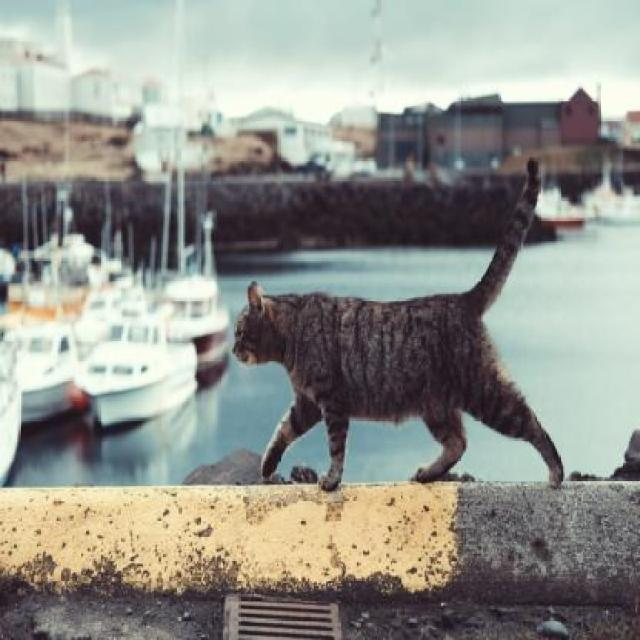cat: (233, 158, 565, 492)
